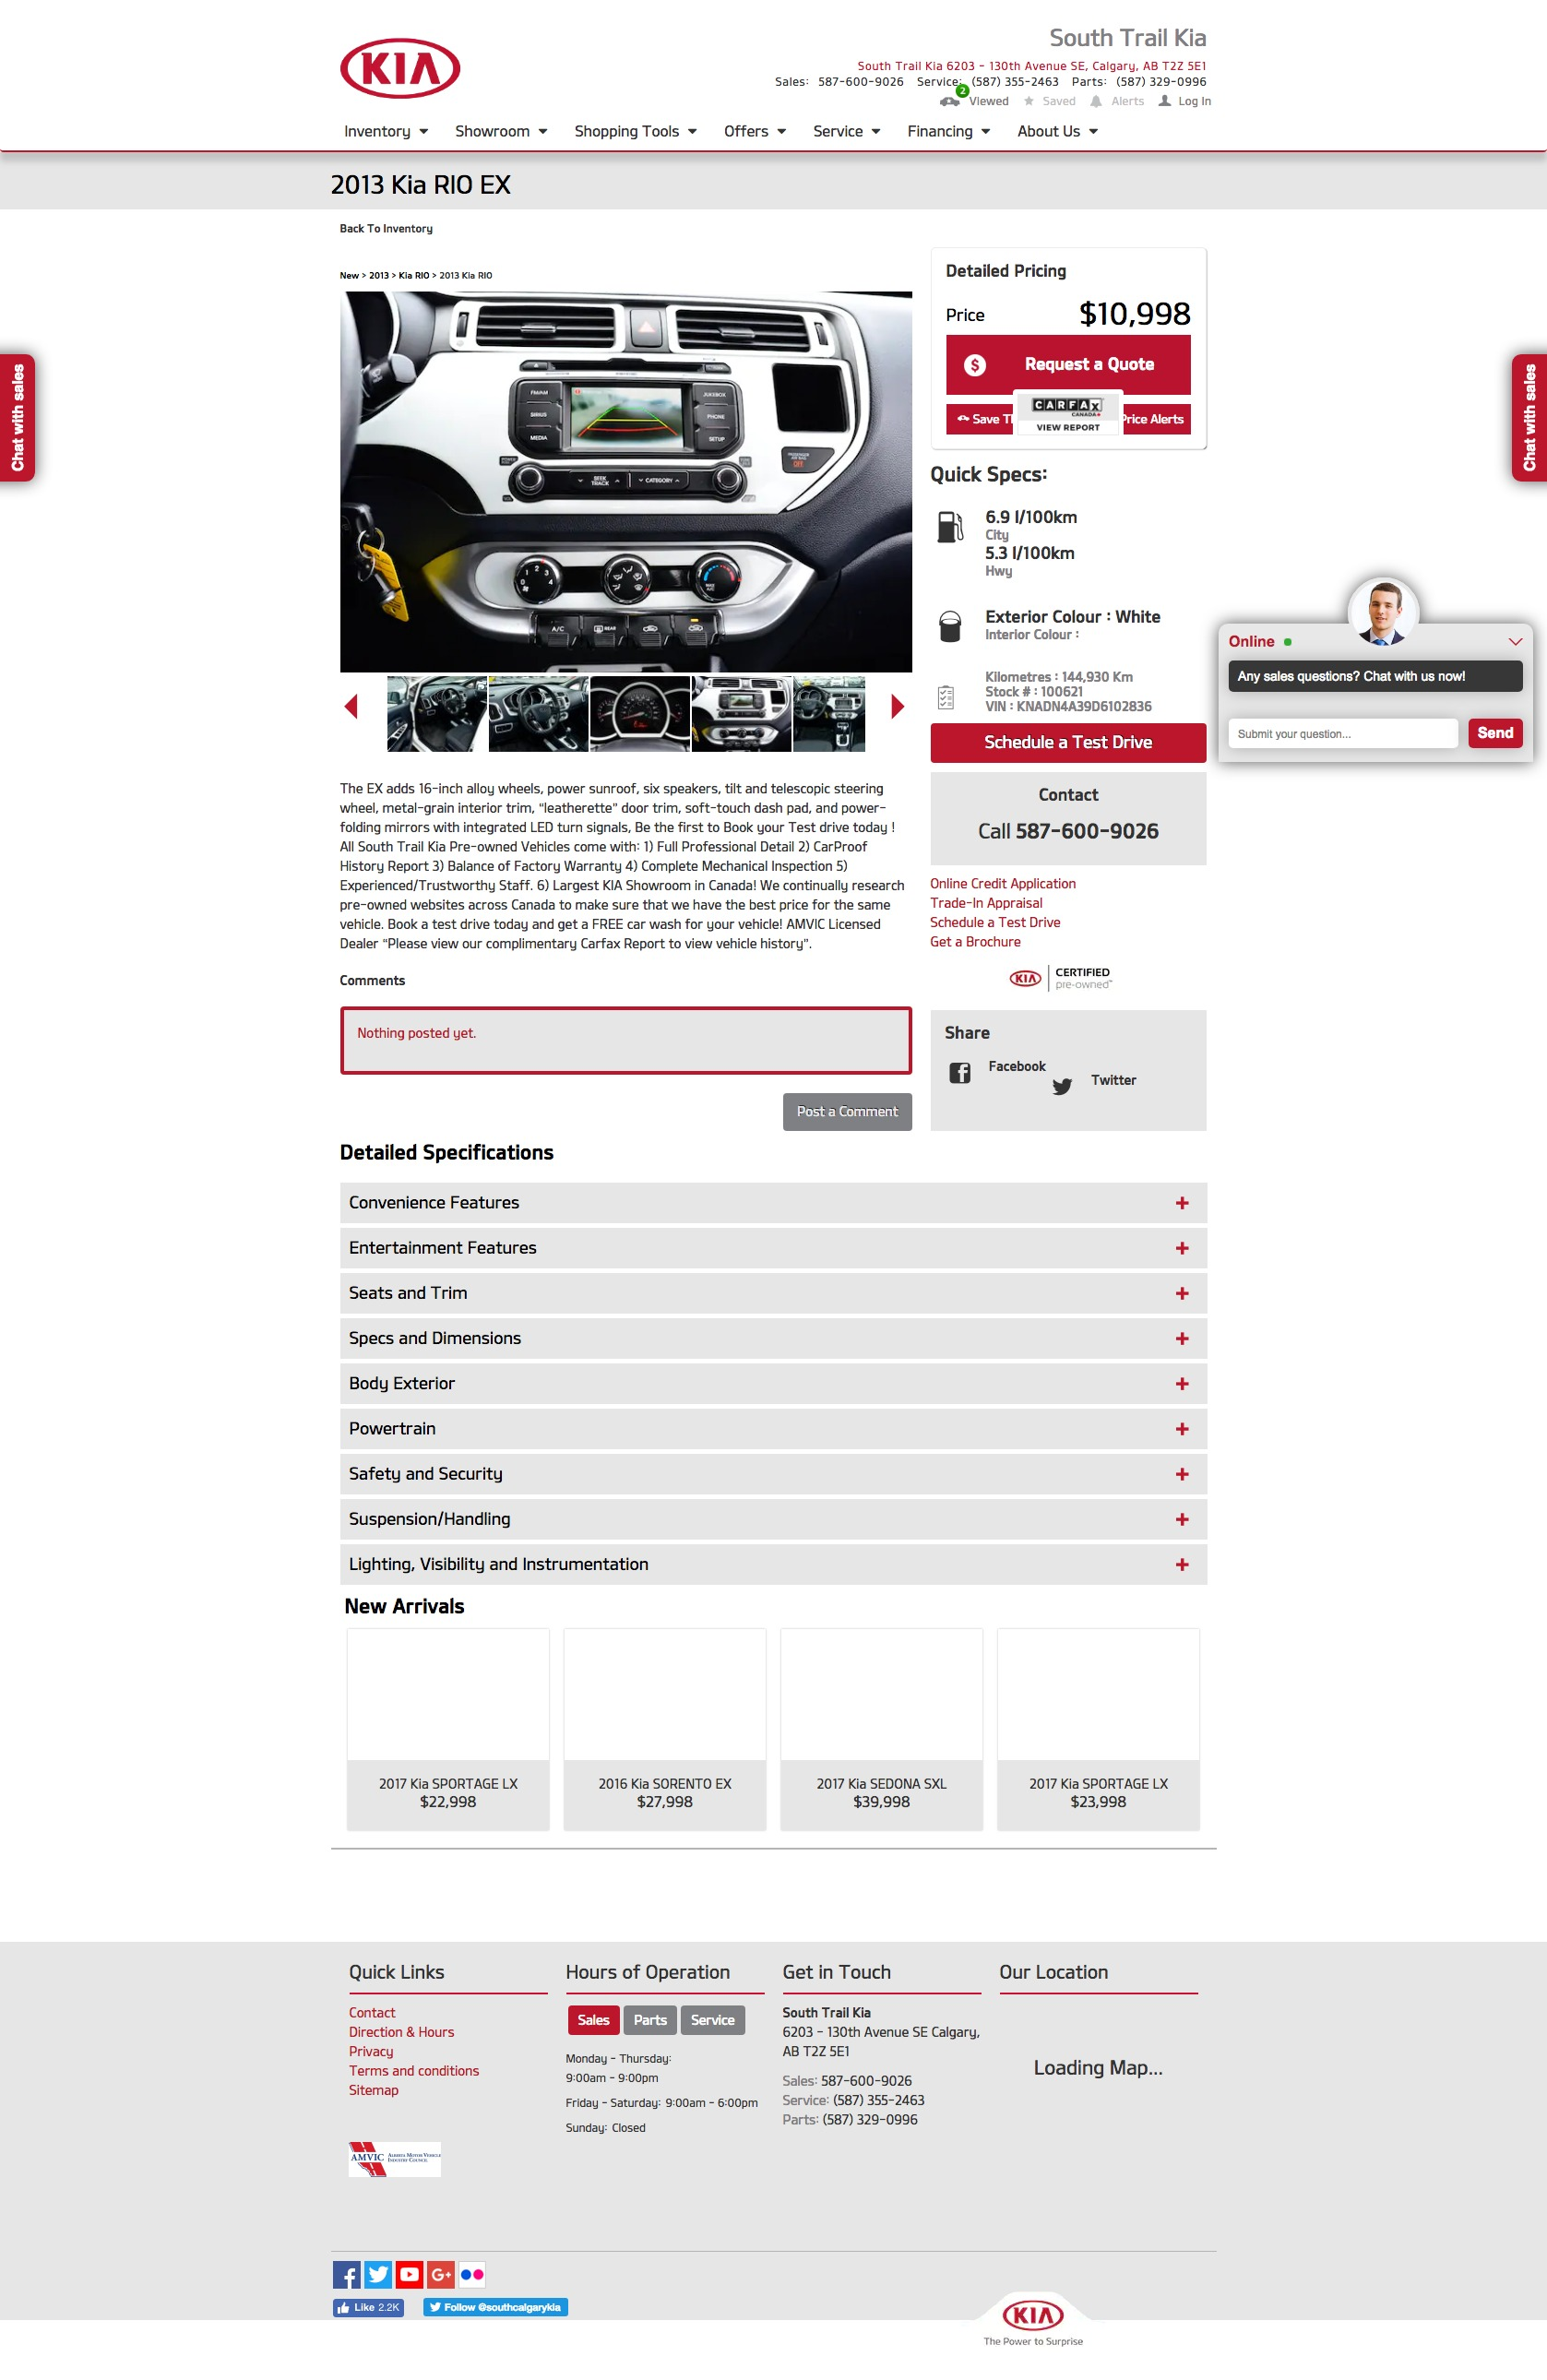car: (891, 694, 905, 720)
